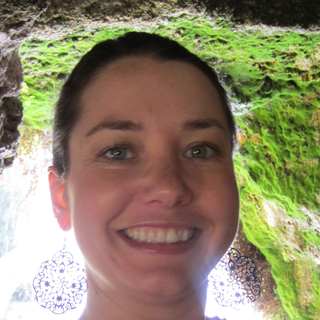eye: (93, 140, 142, 166), (177, 139, 222, 163)
